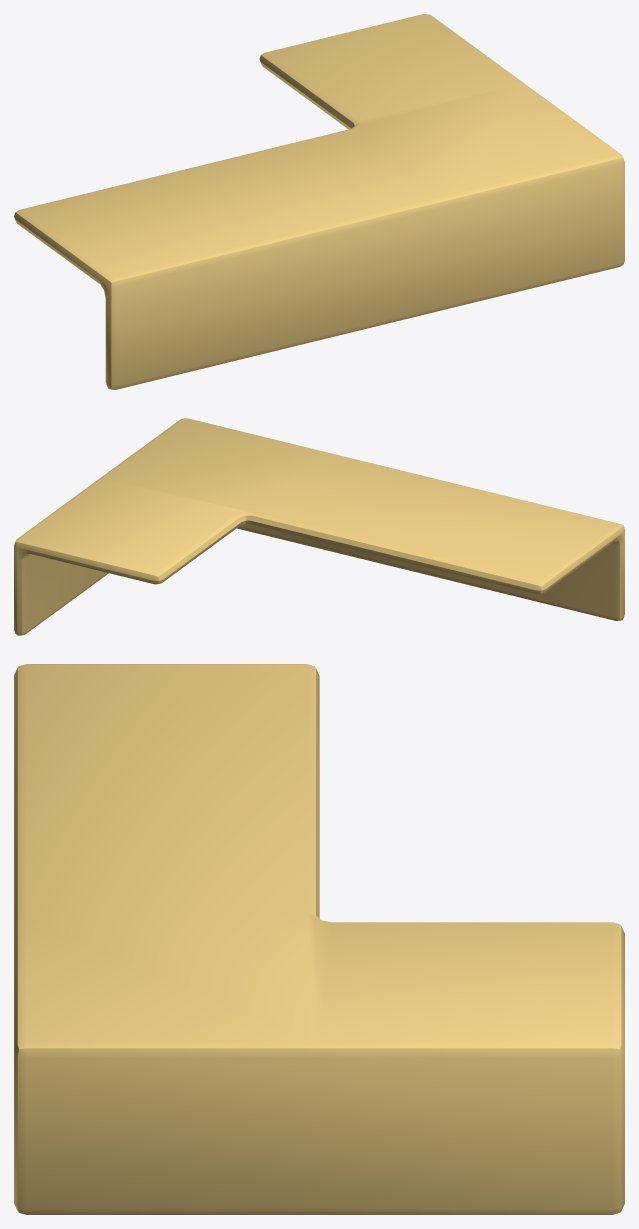
File: Props_Table_03.fbx
3 views of the same model, one above another, from view 1: azimuth 30°, elevation 25°; view 2: azimuth 150°, elevation 25°; view 3: azimuth 270°, elevation 25° (orthographic). The views are drawn at different scales.
Visible parts, largest first — view 1: Props_Table_03; view 2: Props_Table_03; view 3: Props_Table_03.
Boxes of the visible parts, x1,y1,x2,y2 form: Props_Table_03: [14, 14, 624, 389]; Props_Table_03: [14, 418, 624, 635]; Props_Table_03: [14, 664, 624, 1214].
Size of the model in its own units: 300 by 62.5 by 200.
